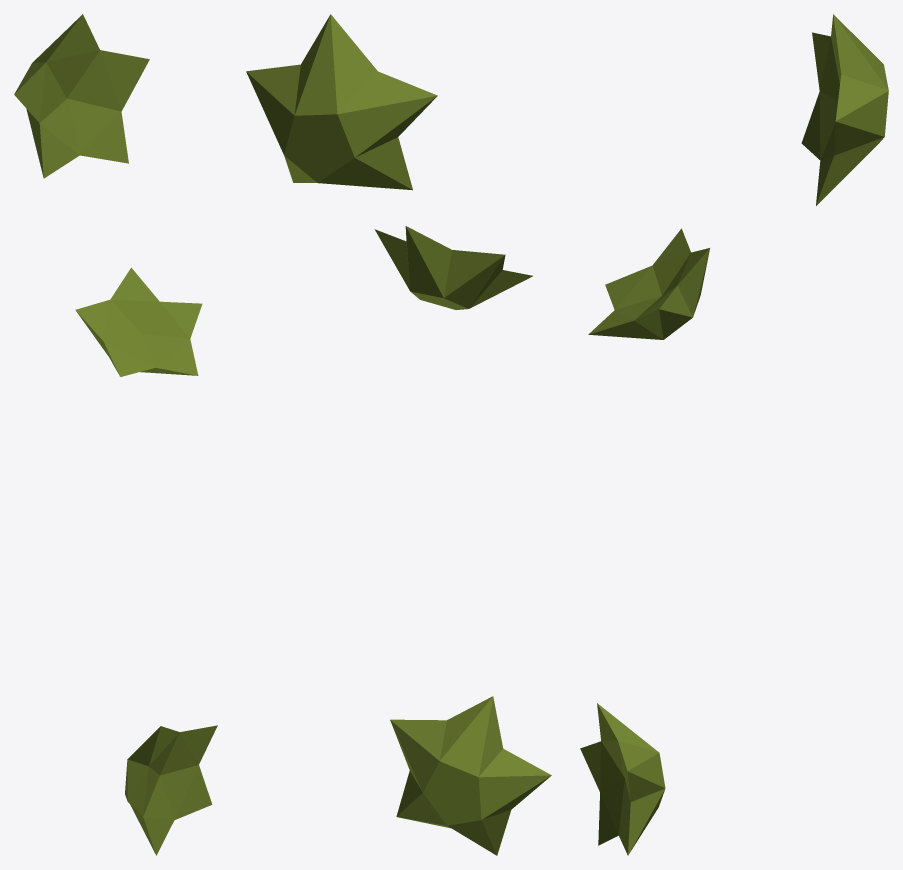
The picture shows the model from 3 angles, left to right: view 1: azimuth 30°, elevation 25°; view 2: azimuth 150°, elevation 25°; view 3: azimuth 270°, elevation 25°; orthographic projection. The views are drawn at different scales.
Visible parts, largest first — view 1: Box15990_green2_0, Box15985_green2_0, Box15977_green2_0; view 2: Box15990_green2_0, Box15977_green2_0, Box15985_green2_0; view 3: Box15990_green2_0, Box15977_green2_0, Box15985_green2_0.
Boxes of the visible parts, bbox=[...] form: Box15990_green2_0: bbox=[14, 14, 149, 178]; Box15985_green2_0: bbox=[75, 267, 202, 376]; Box15977_green2_0: bbox=[125, 725, 217, 855]; Box15990_green2_0: bbox=[246, 14, 437, 190]; Box15977_green2_0: bbox=[390, 696, 551, 855]; Box15985_green2_0: bbox=[374, 226, 532, 309]; Box15990_green2_0: bbox=[801, 14, 888, 205]; Box15977_green2_0: bbox=[580, 703, 665, 855]; Box15985_green2_0: bbox=[588, 228, 709, 339].
Size of the model in its own units: 121 by 600 by 198.
